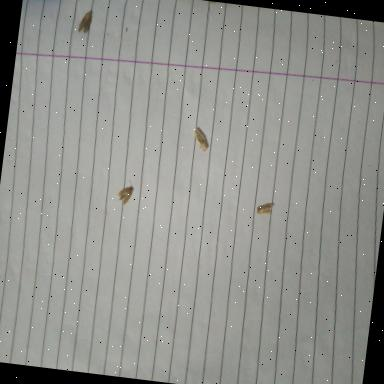pbw: (116, 178, 134, 206), (191, 128, 210, 152), (77, 11, 92, 34), (255, 200, 274, 216)
